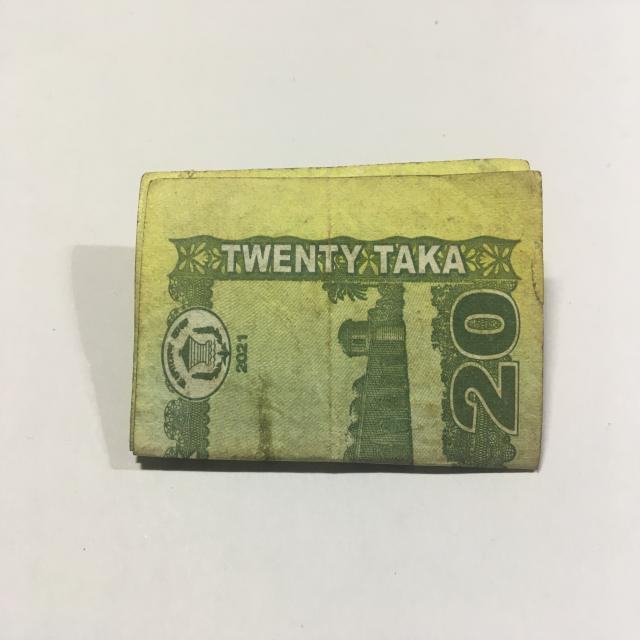Taka: (130, 165, 553, 482)
